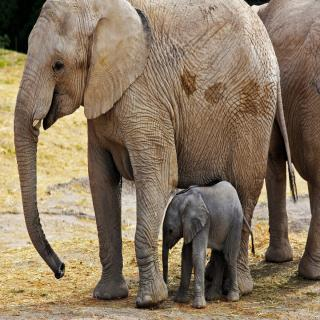Elephant: (12, 1, 303, 311), (161, 178, 260, 306)
